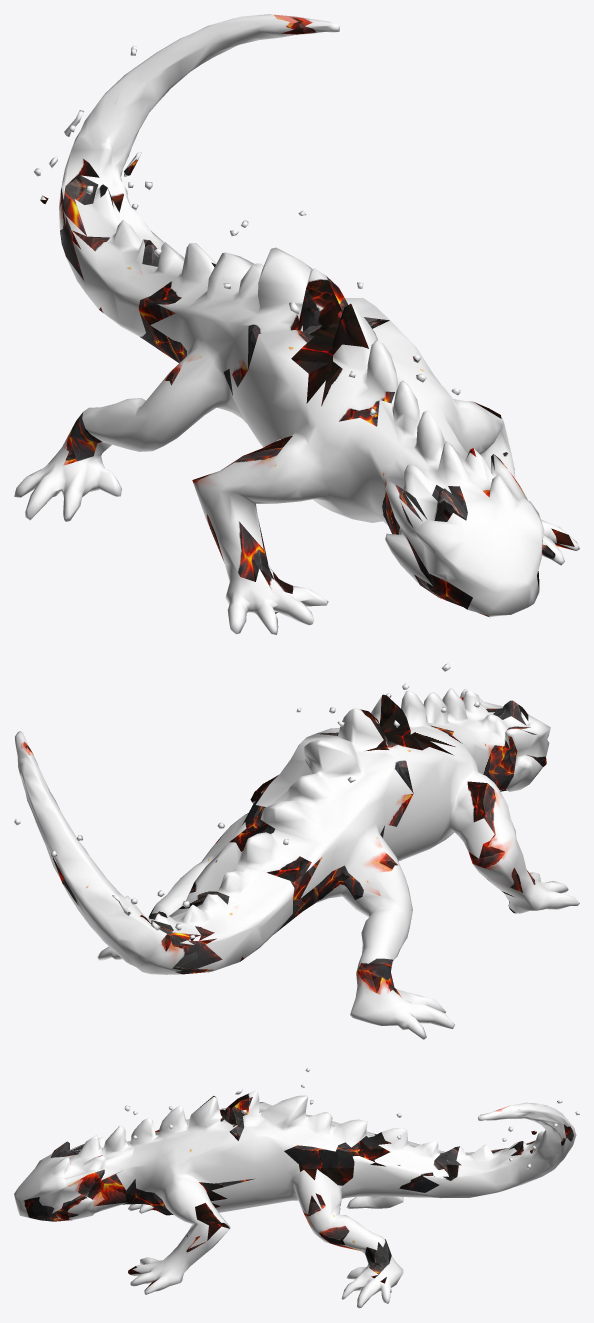
File: cinder_whelp_basic_5k.fbx
3 views of the same model, one above another, from view 1: azimuth 30°, elevation 25°; view 2: azimuth 150°, elevation 25°; view 3: azimuth 270°, elevation 25° (orthographic). The views are drawn at different scales.
Parts seen in each view (by area): view 1: cinder_whelp_basic_decimated; view 2: cinder_whelp_basic_decimated; view 3: cinder_whelp_basic_decimated.
Part boxes in pixels (left/top/right/bottom): cinder_whelp_basic_decimated: left=14, top=14, right=579, bottom=634; cinder_whelp_basic_decimated: left=14, top=663, right=579, bottom=1039; cinder_whelp_basic_decimated: left=14, top=1068, right=579, bottom=1308.
Bounding box in the file's own units: 0.9677 × 0.7246 × 1.91.
